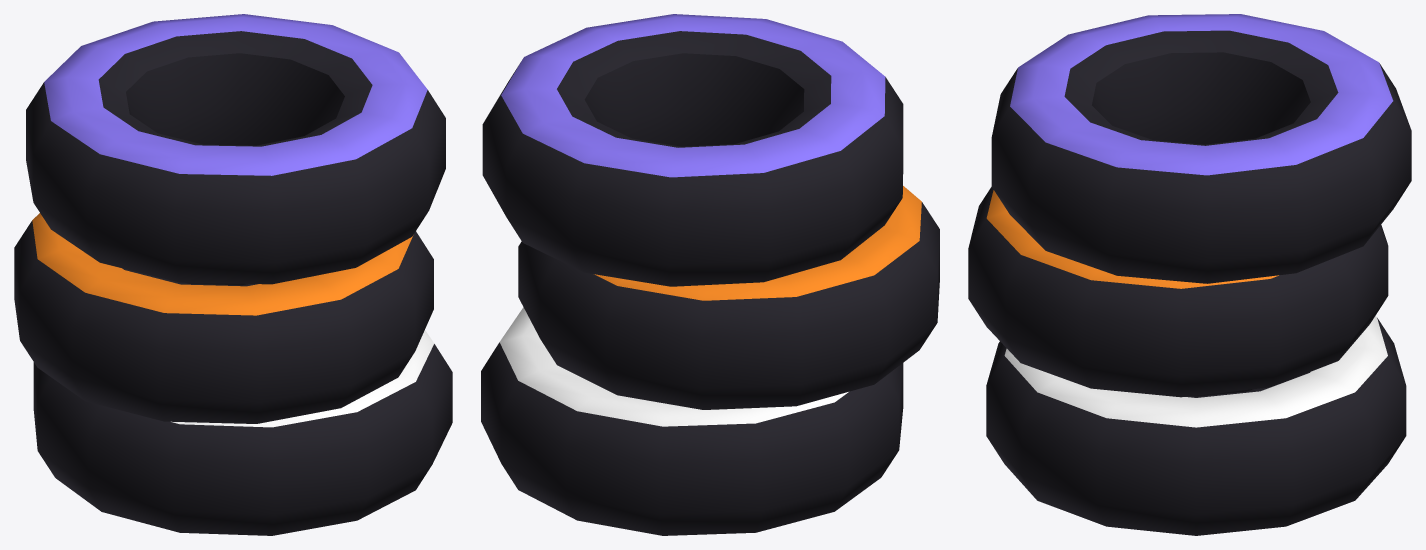
The model's file is tire_stack.glb.
3 renders of one model, left to right at view 1: azimuth 30°, elevation 25°; view 2: azimuth 150°, elevation 25°; view 3: azimuth 270°, elevation 25°, orthographic.
Visible parts, largest first — view 1: tire_stack; view 2: tire_stack; view 3: tire_stack.
Boxes of the visible parts, <box> form: tire_stack: <box>14,14,452,535</box>; tire_stack: <box>481,14,939,535</box>; tire_stack: <box>968,14,1411,535</box>.
Size of the model in its own units: 0.9784 by 0.895 by 0.9639.
